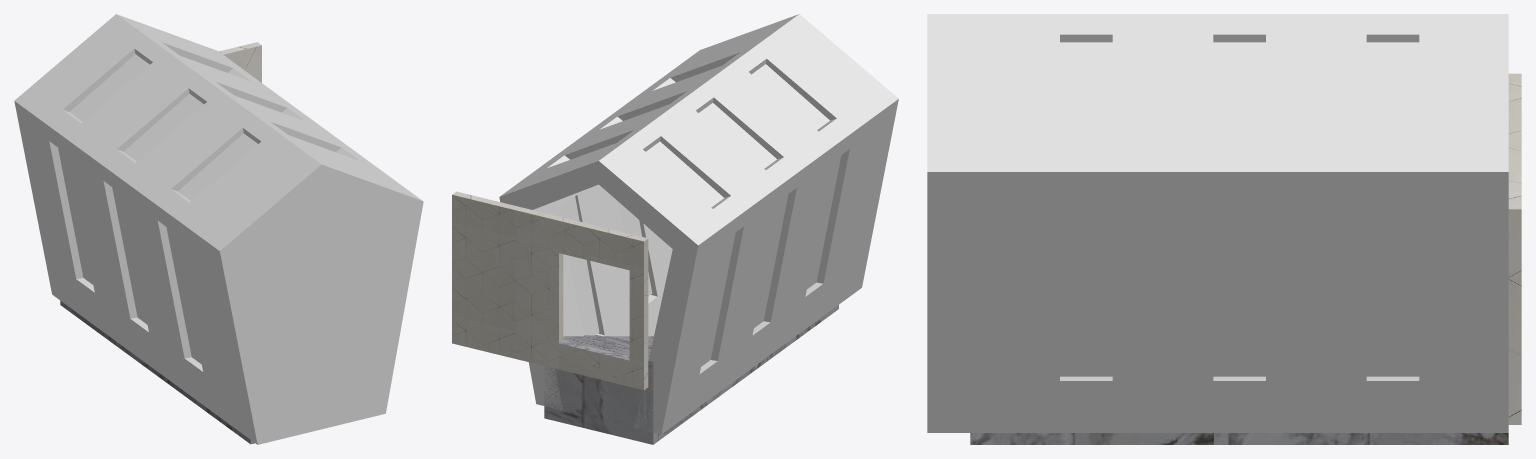
File: Building1.fbx
3 views of the same model, side by side, from view 1: azimuth 30°, elevation 25°; view 2: azimuth 150°, elevation 25°; view 3: azimuth 270°, elevation 25° (orthographic). The views are drawn at different scales.
Parts seen in each view (by area): view 1: Cube.001, Cube.004, Cube.002, Cube.003, Cube, Wall.002; view 2: Cube.001, Wall.002, Cube, Cube.003, Cube.004, Cube.002; view 3: Cube.001, Cube.003, Cube.004, Cube.002, Cube, Wall.002.
Boxes of the visible parts, <box> form: Cube.001: <box>14,14,407,433</box>; Cube.004: <box>204,153,423,444</box>; Cube.002: <box>70,54,257,200</box>; Cube.003: <box>58,148,201,363</box>; Cube: <box>60,301,254,444</box>; Wall.002: <box>219,42,261,82</box>; Cube.001: <box>499,25,883,434</box>; Wall.002: <box>452,191,648,390</box>; Cube: <box>544,305,838,444</box>; Cube.003: <box>559,155,841,366</box>; Cube.004: <box>685,14,898,298</box>; Cube.002: <box>646,64,829,207</box>; Cube.001: <box>970,14,1508,432</box>; Cube.003: <box>1060,195,1419,376</box>; Cube.004: <box>927,14,970,432</box>; Cube.002: <box>1060,42,1419,146</box>; Cube: <box>970,433,1508,444</box>; Wall.002: <box>1508,73,1521,424</box>.
Size of the model in its own units: 5.24 by 5.61 by 7.7.
5 materials, 3 textured.
